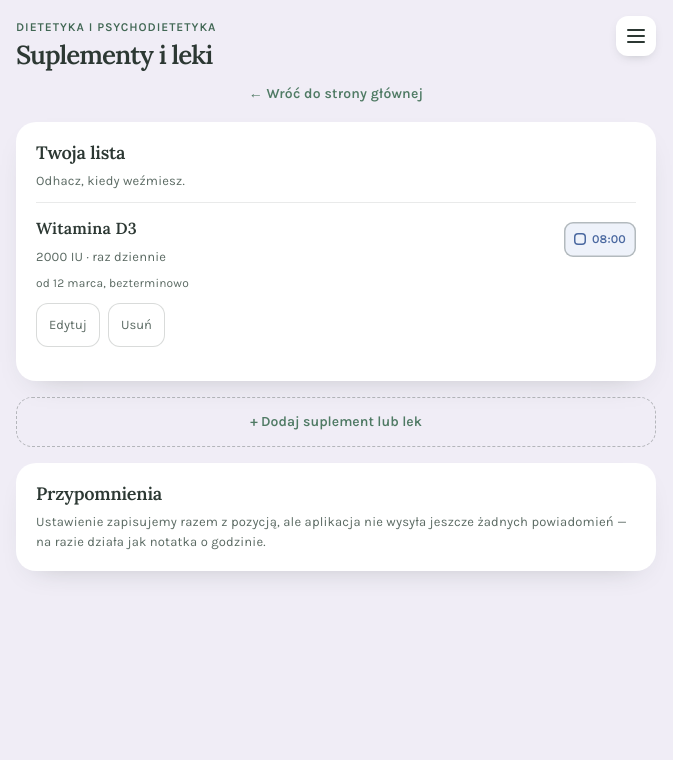
Test: editing one › opens the form with the stored values
Click the button "Edytuj": coordinates (68, 325) [36,303,100,347]
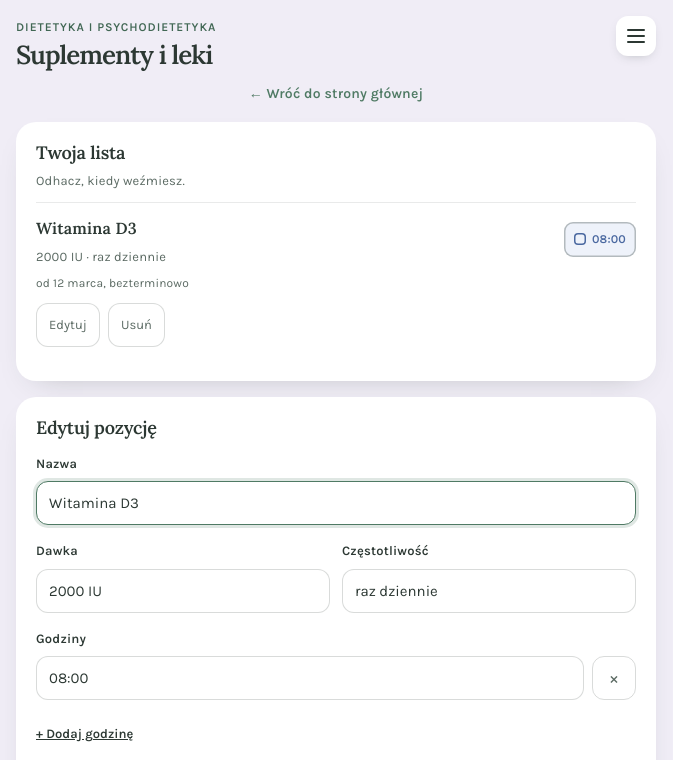
expect the heading "Edytuj pozycję" is shown: met, box [36,416,157,439]
expect the field labelled "Nazwa" holds "Witamina D3": met, box [36,481,636,525]
expect the field labelled "Dawka" holds "2000 IU": met, box [36,569,330,613]
